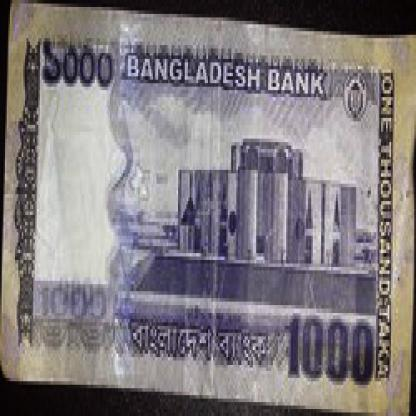One Thousand taka: (280, 316, 374, 388), (38, 38, 118, 94)
